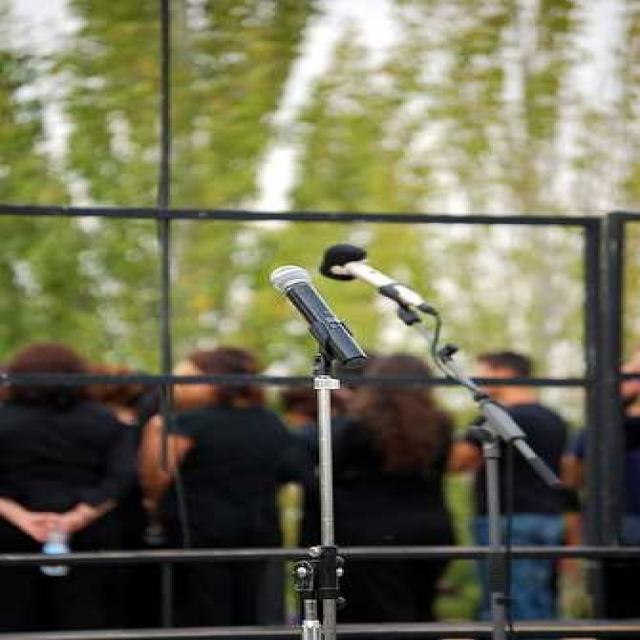microphone: (269, 262, 370, 373), (320, 244, 436, 324)
